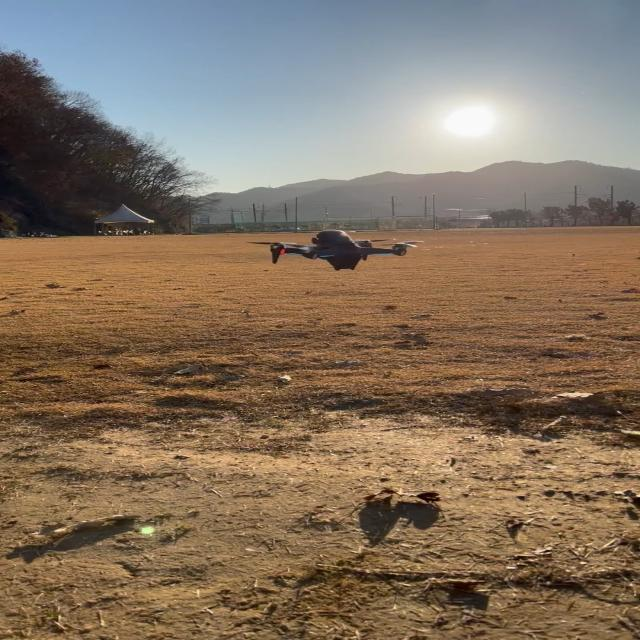drone: (245, 228, 424, 270)
